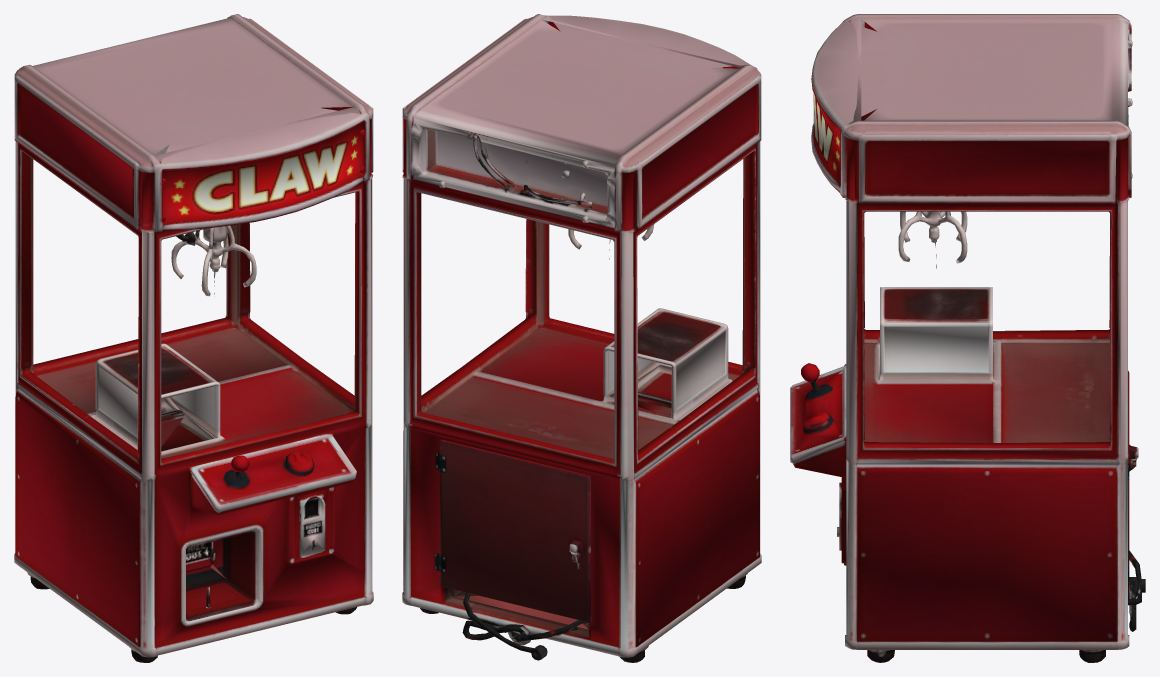
The model's file is claw-machine.glb.
The picture shows the model from 3 angles, left to right: view 1: azimuth 30°, elevation 25°; view 2: azimuth 150°, elevation 25°; view 3: azimuth 270°, elevation 25°; orthographic projection. The views are drawn at different scales.
Parts seen in each view (by area): view 1: tripo_node_bce61bfe-72ab-438e-9c76-f0304da93531; view 2: tripo_node_bce61bfe-72ab-438e-9c76-f0304da93531; view 3: tripo_node_bce61bfe-72ab-438e-9c76-f0304da93531.
Boxes of the visible parts, bbox=[...] form: tripo_node_bce61bfe-72ab-438e-9c76-f0304da93531: bbox=[14, 14, 373, 662]; tripo_node_bce61bfe-72ab-438e-9c76-f0304da93531: bbox=[402, 14, 761, 662]; tripo_node_bce61bfe-72ab-438e-9c76-f0304da93531: bbox=[790, 14, 1145, 662].
Bounding box in the file's own units: 0.4731 × 0.9789 × 0.5843.
1 material, 1 textured.
